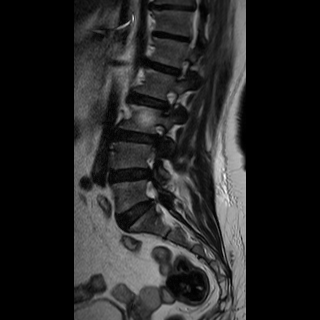RFS0: (154, 86, 180, 117), (170, 56, 194, 87)
